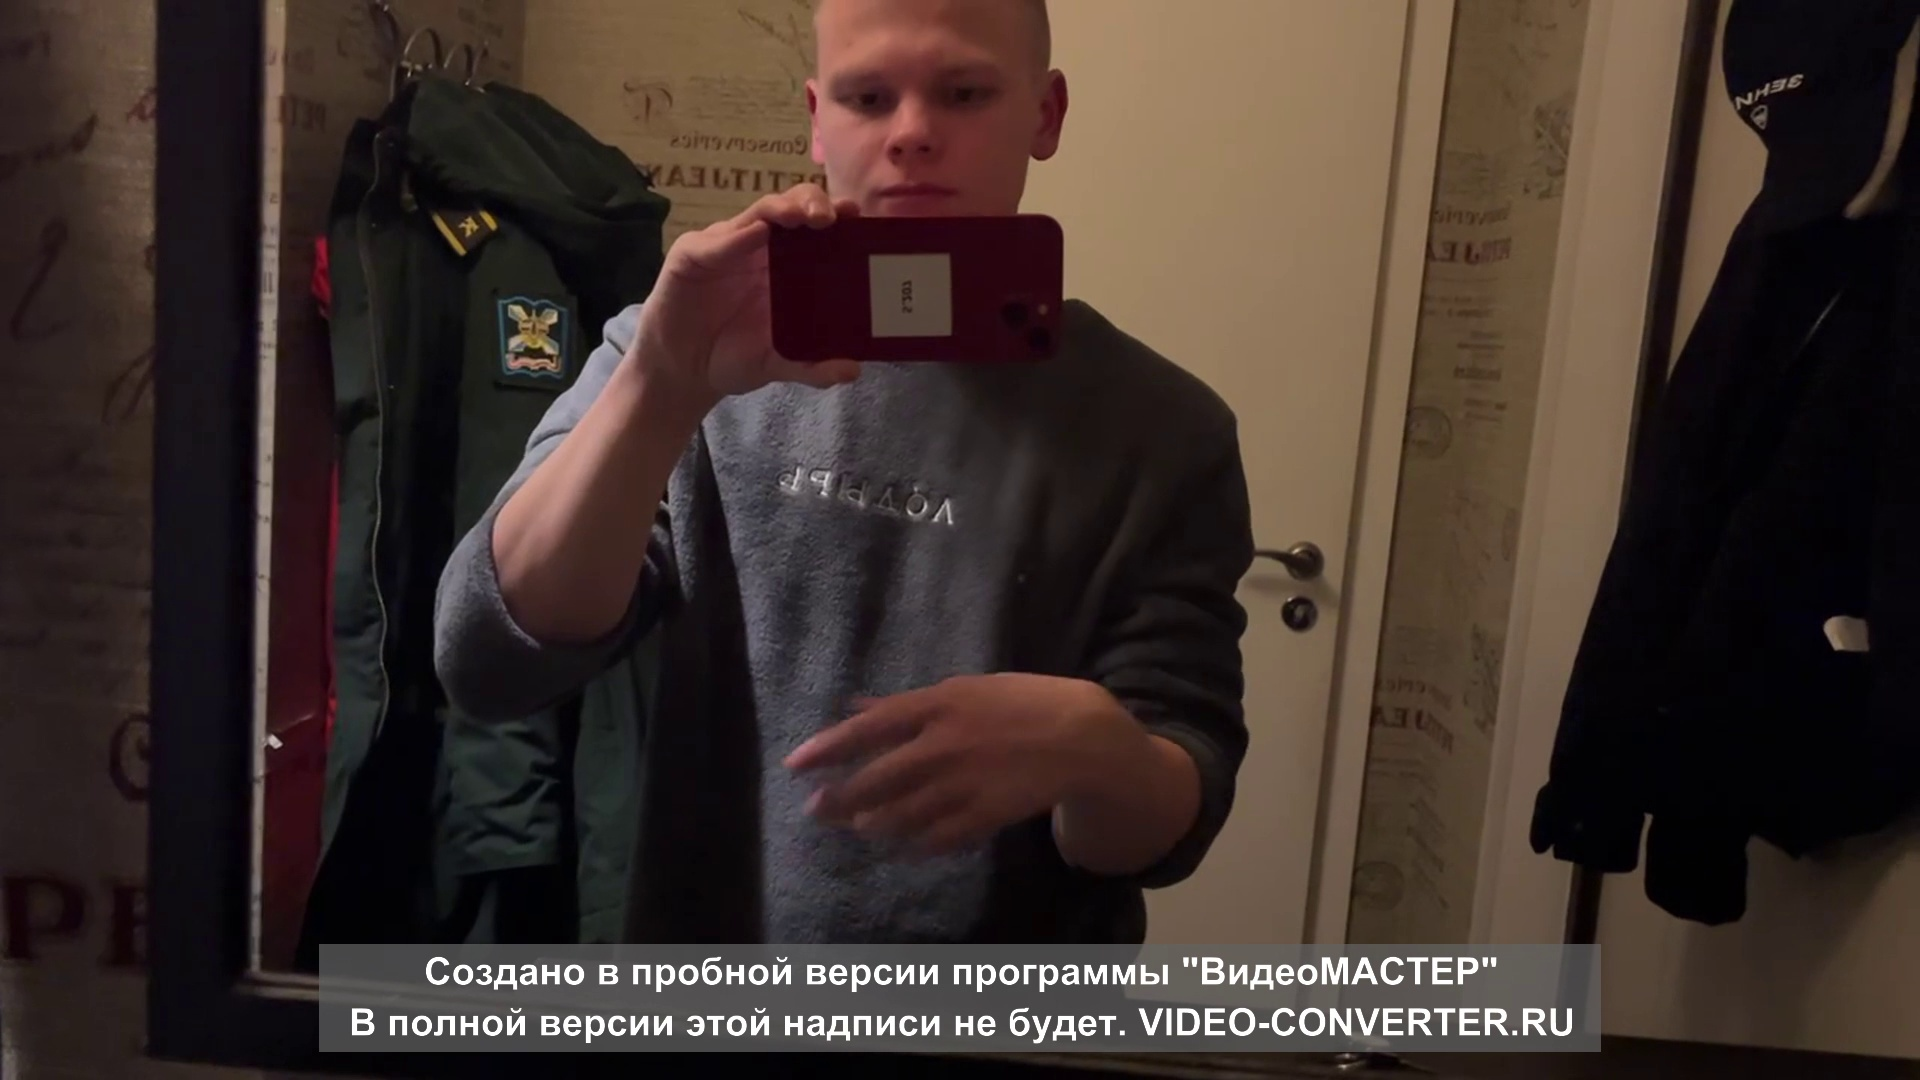Кисть: (785, 671, 1097, 862)
